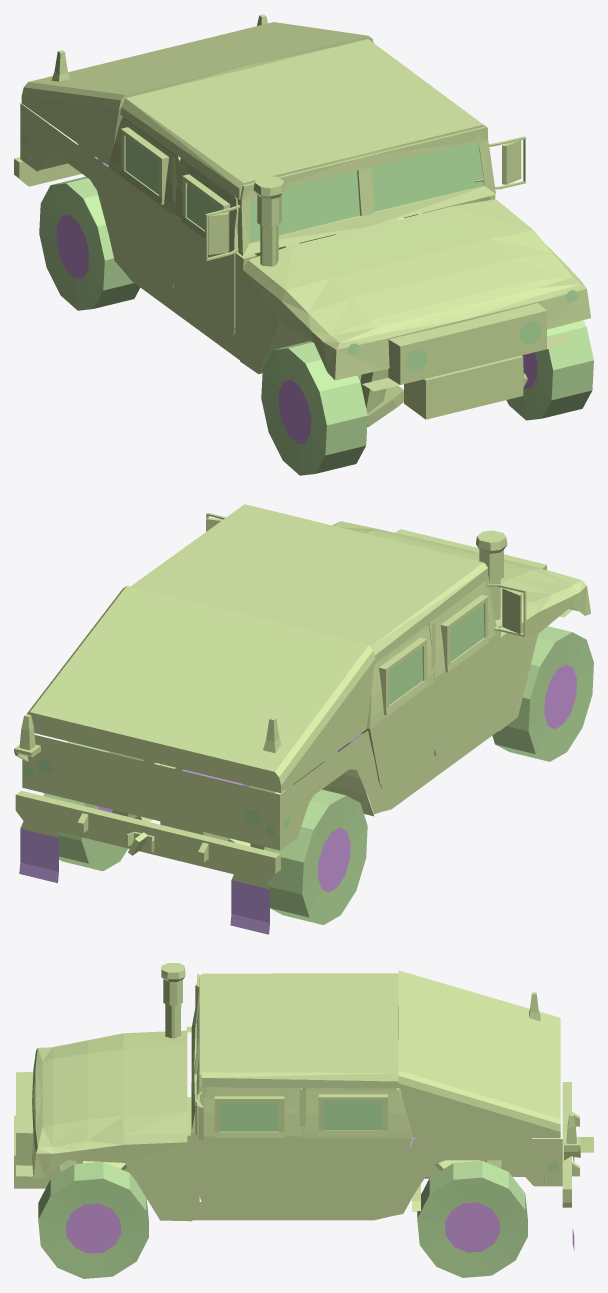
Rendered from land-wheeled-humvee-default.glb.
3 views of the same model, one above another, from view 1: azimuth 30°, elevation 25°; view 2: azimuth 150°, elevation 25°; view 3: azimuth 270°, elevation 25° (orthographic). The views are drawn at different scales.
Visible parts, largest first — view 1: CC_HumveeSUV_01, CC_WHL_05_Fastback_RearRight_1, CC_WHL_05_Fastback_RearRight_3, CC_WHL_05_Fastback_RearRight_0; view 2: CC_HumveeSUV_01, CC_WHL_05_Fastback_RearRight_3, CC_WHL_05_Fastback_RearRight_1, CC_WHL_05_Fastback_RearRight_2; view 3: CC_HumveeSUV_01, CC_WHL_05_Fastback_RearRight_0, CC_WHL_05_Fastback_RearRight_2.
Part boxes in pixels (x1,y1,x2,y2): CC_HumveeSUV_01: (14,14,590,426); CC_WHL_05_Fastback_RearRight_1: (261,341,367,475); CC_WHL_05_Fastback_RearRight_3: (39,176,140,310); CC_WHL_05_Fastback_RearRight_0: (506,320,593,420); CC_HumveeSUV_01: (14,504,590,934); CC_WHL_05_Fastback_RearRight_3: (264,789,367,924); CC_WHL_05_Fastback_RearRight_1: (492,626,593,761); CC_WHL_05_Fastback_RearRight_2: (43,741,143,871); CC_HumveeSUV_01: (14,963,593,1250); CC_WHL_05_Fastback_RearRight_0: (38,1162,148,1278); CC_WHL_05_Fastback_RearRight_2: (417,1161,527,1277).
Bounding box in the file's own units: 3.07 × 2.29 × 5.73.
